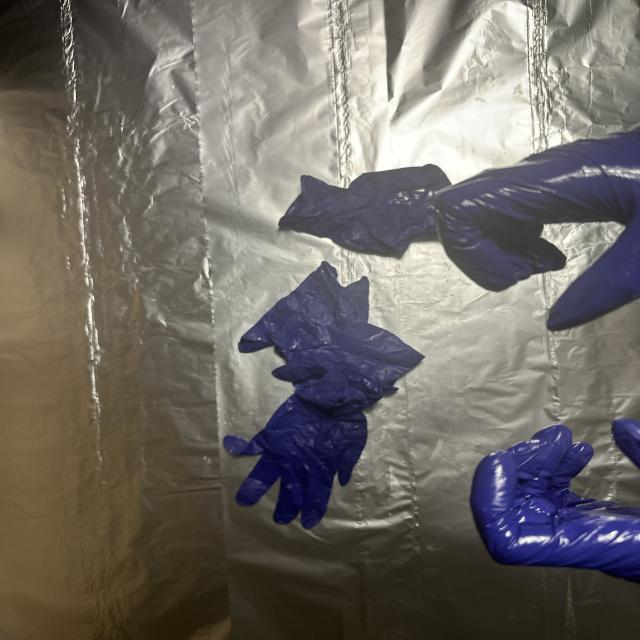gloves_contaminated: (433, 130, 640, 332), (470, 426, 640, 583)
